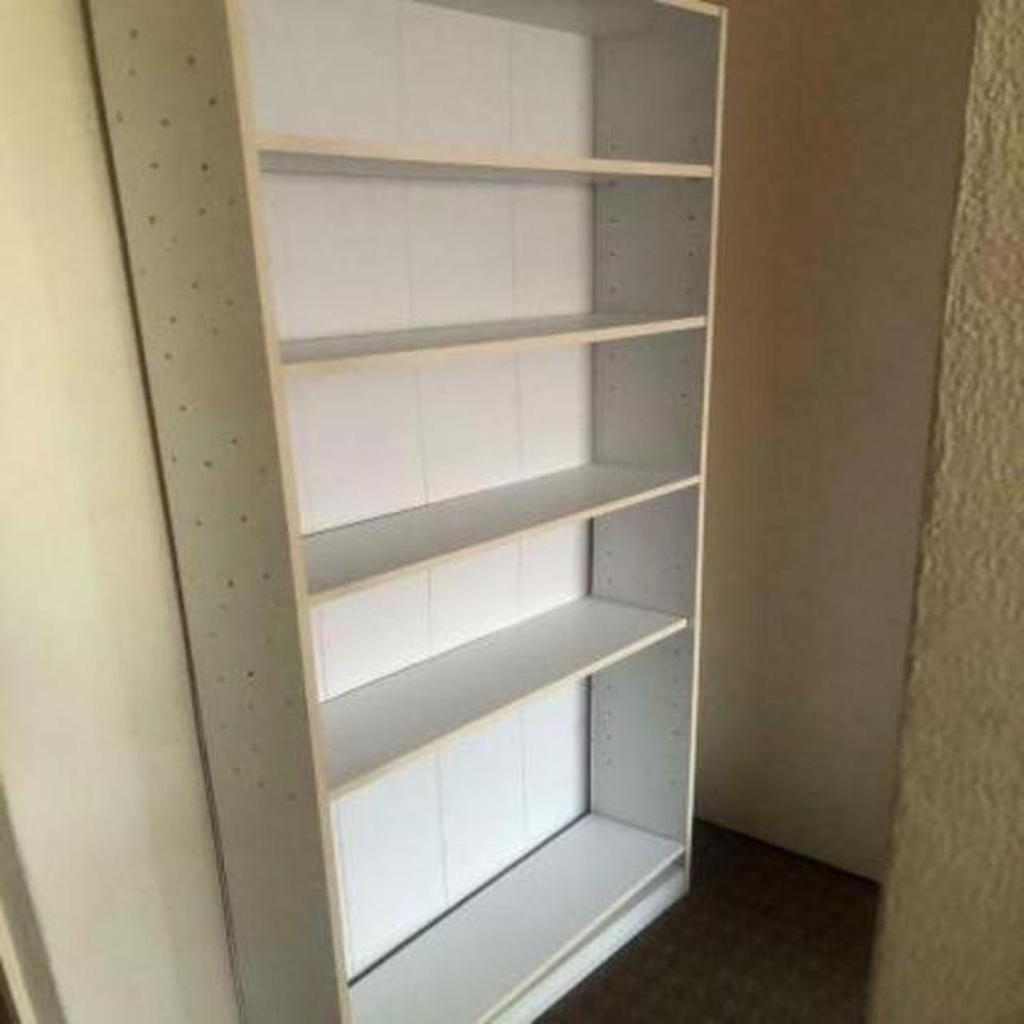lamp: (76, 1, 734, 1023)
